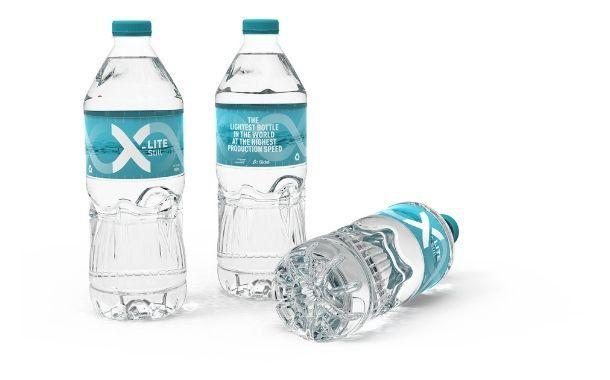bottle: (79, 7, 192, 324), (214, 8, 314, 325), (274, 194, 469, 347)
